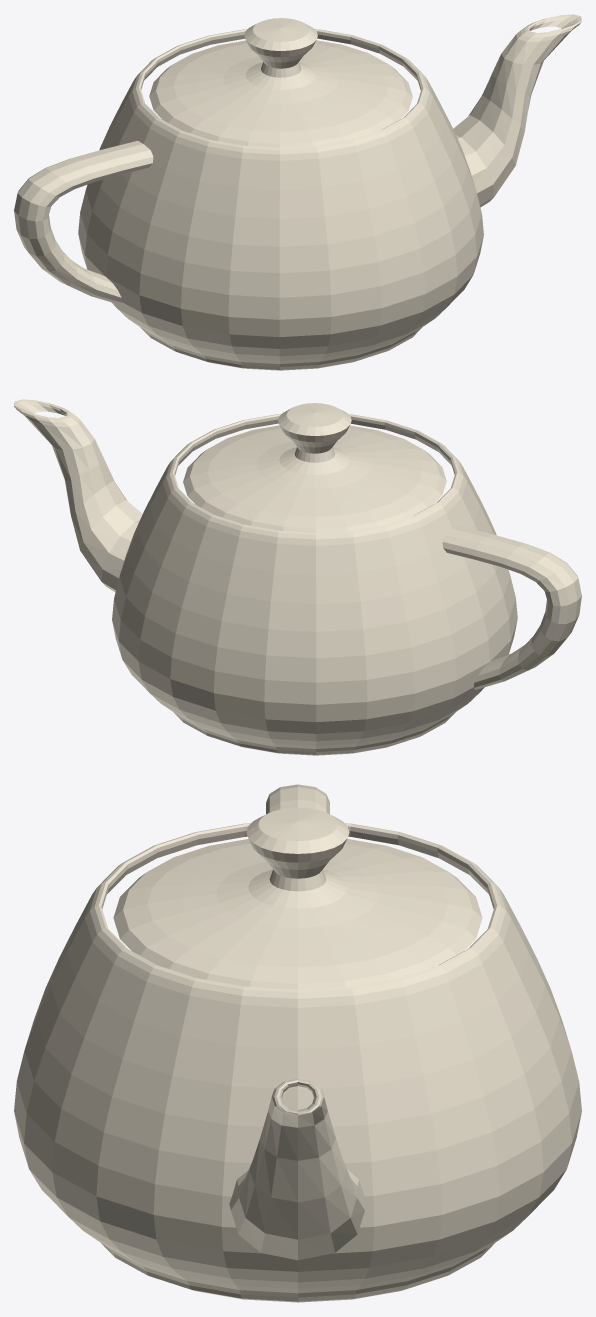
The model's file is case1.glb.
The picture shows the model from 3 angles, top to bottom: view 1: azimuth 30°, elevation 25°; view 2: azimuth 150°, elevation 25°; view 3: azimuth 270°, elevation 25°; orthographic projection. The views are drawn at different scales.
Visible parts, largest first — view 1: teapot; view 2: teapot; view 3: teapot.
Part boxes in pixels (box(x1,y1,x2,y2)): teapot: box(14, 14, 581, 370); teapot: box(14, 399, 581, 755); teapot: box(14, 784, 581, 1302).
Size of the model in its own units: 0.00643 by 0.00315 by 0.004.
